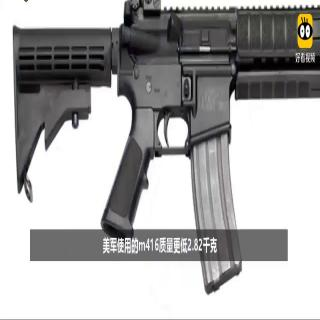gun: (17, 6, 320, 292)
